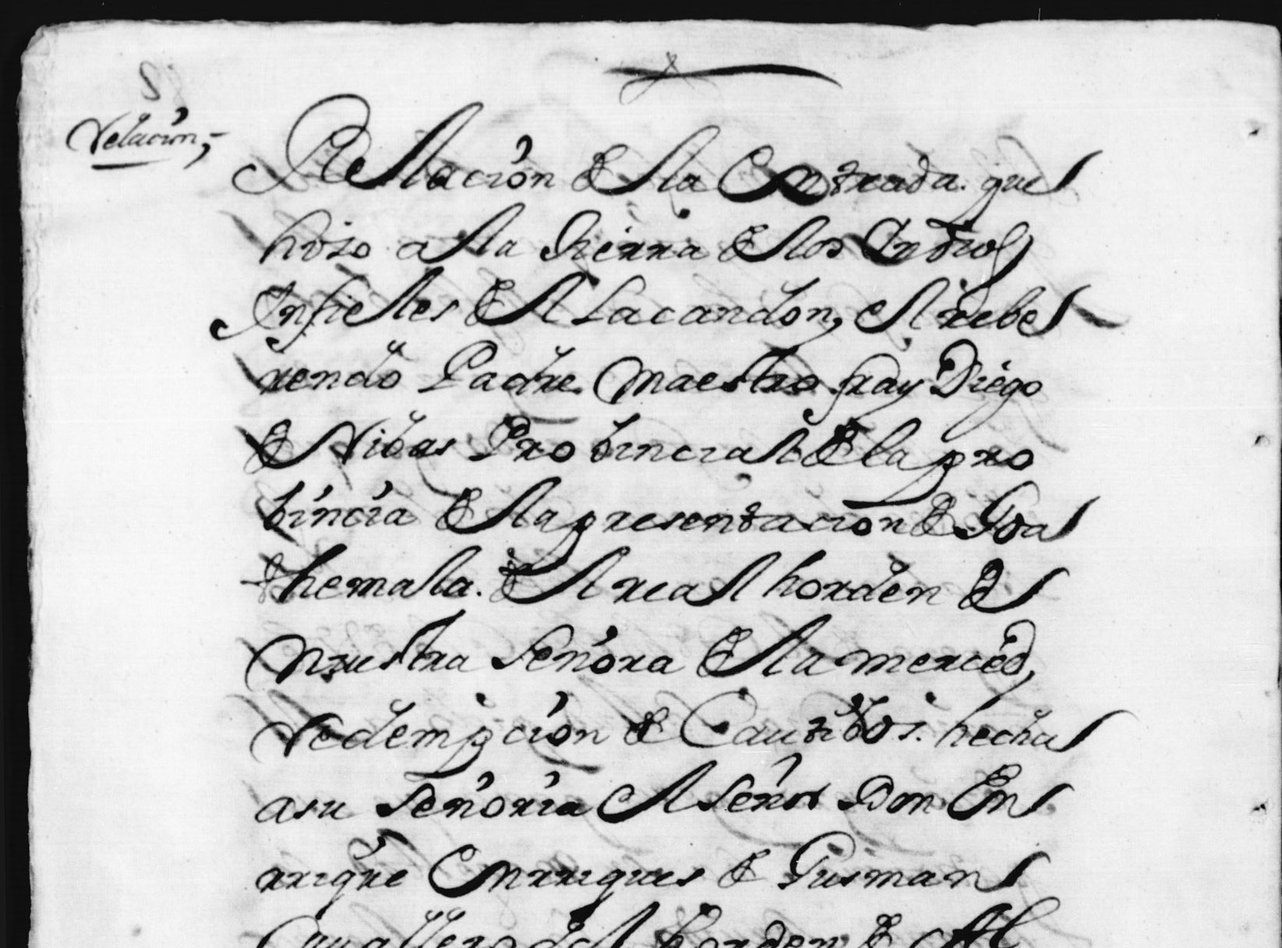lacandon: (570, 274, 832, 326)
